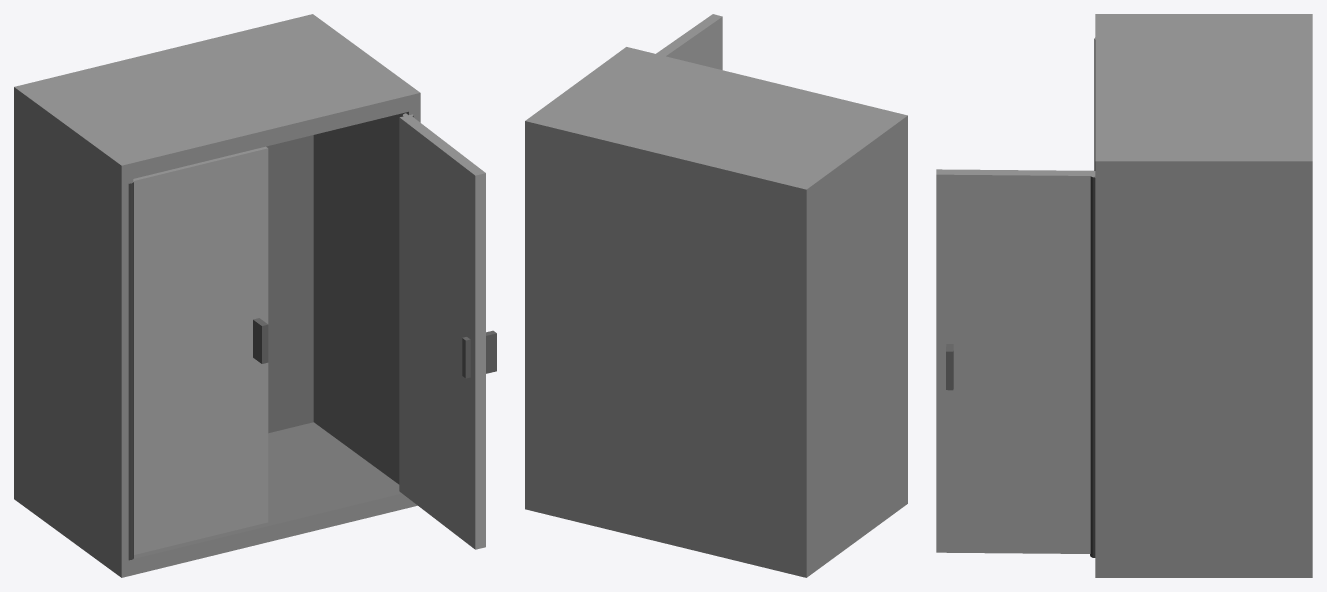
Rendered from Cabinet_Open.fbx.
3 renders of one model, left to right at view 1: azimuth 30°, elevation 25°; view 2: azimuth 150°, elevation 25°; view 3: azimuth 270°, elevation 25°, orthographic. The views are drawn at different scales.
Parts seen in each view (by area): view 1: pCube7; view 2: pCube7; view 3: pCube7.
Boxes of the visible parts, x1,y1,x2,y2 form: pCube7: (14, 14, 496, 577); pCube7: (525, 14, 907, 577); pCube7: (936, 14, 1312, 577).
Bounding box in the file's own units: 28.39 × 37.09 × 30.38.
